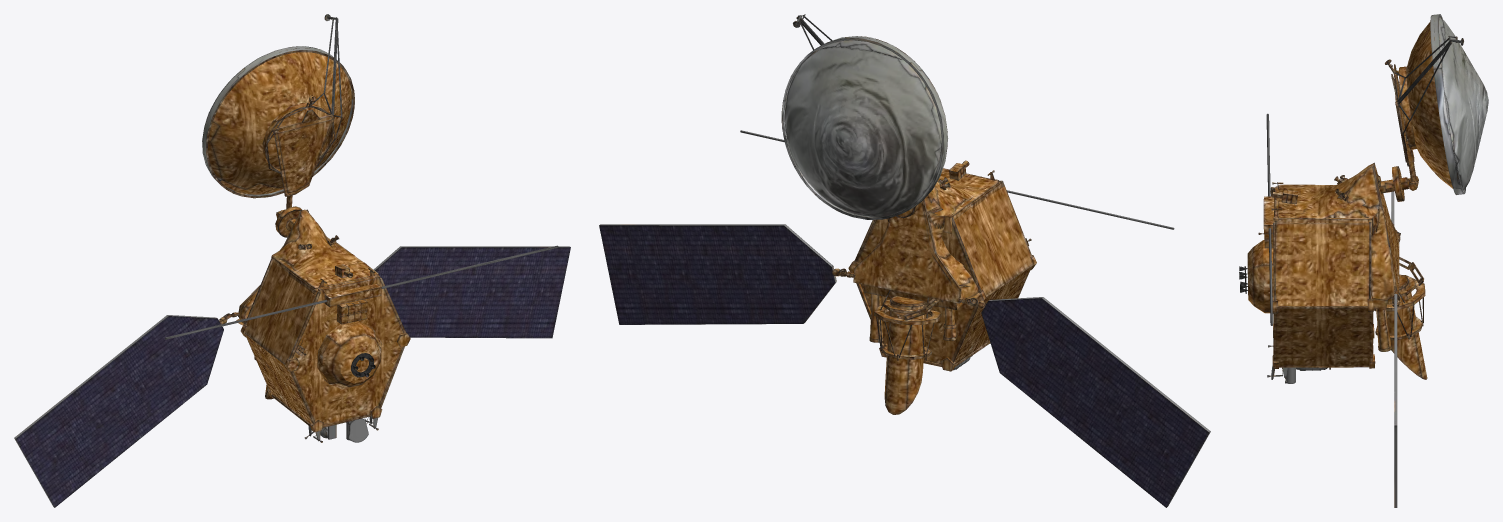
Rendered from mro_lod1.glb.
3 renders of one model, left to right at view 1: azimuth 30°, elevation 25°; view 2: azimuth 150°, elevation 25°; view 3: azimuth 270°, elevation 25°, orthographic. The views are drawn at different scales.
Parts seen in each view (by area): view 1: mro_lod1; view 2: mro_lod1; view 3: mro_lod1.
Boxes of the visible parts, x1,y1,x2,y2 form: mro_lod1: [14, 14, 570, 507]; mro_lod1: [599, 14, 1210, 507]; mro_lod1: [1239, 14, 1488, 507].
Size of the model in its own units: 11.28 by 7.67 by 4.12.
2 materials, 2 textured.
